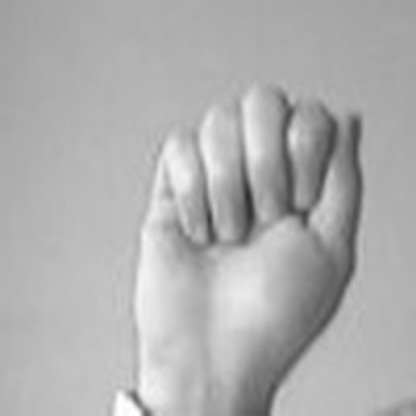a: (115, 68, 386, 373)
